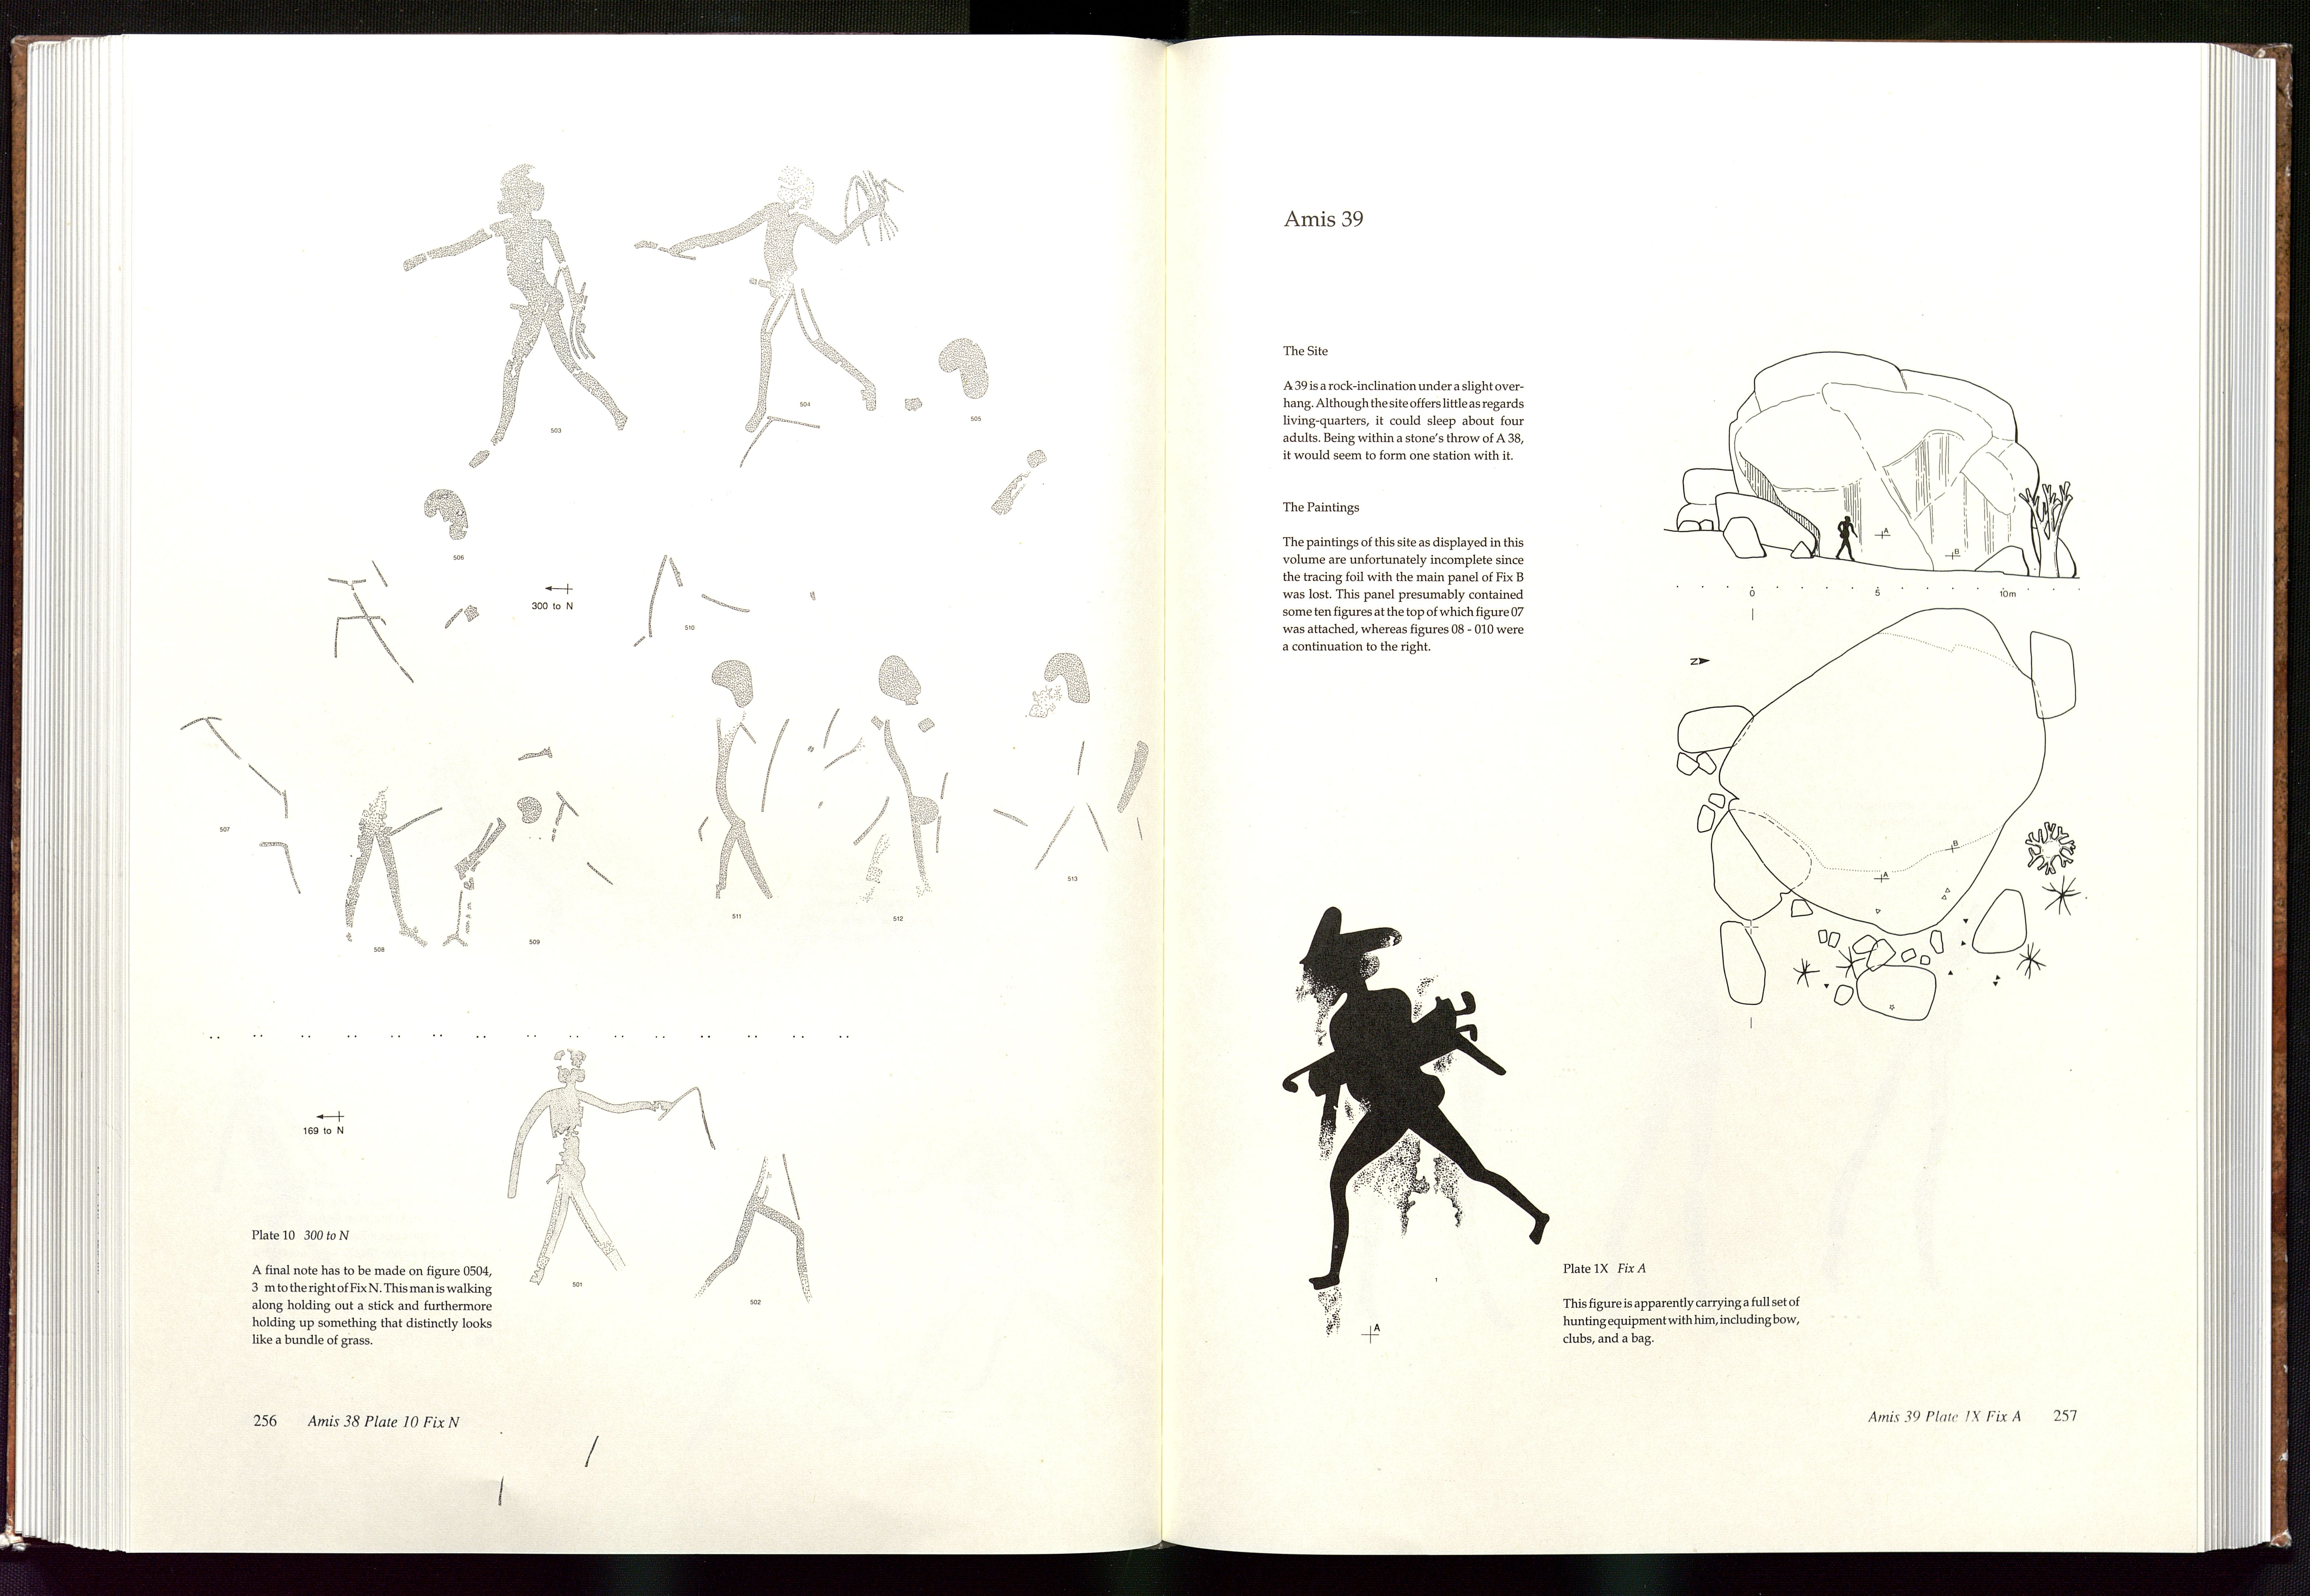human: (1276, 905, 1559, 1305), (392, 151, 633, 470), (658, 158, 888, 436), (495, 1040, 689, 1295), (1011, 639, 1151, 887), (842, 647, 957, 915), (692, 654, 800, 915), (699, 1130, 820, 1334)
